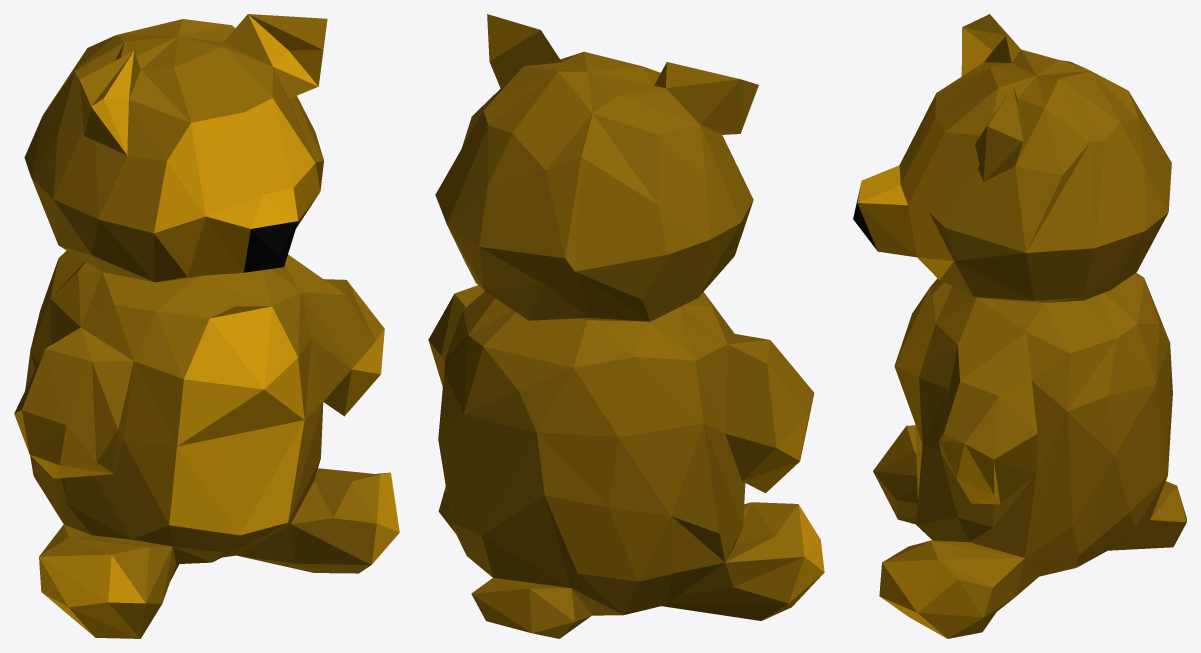
Rendered from stm_env_TeddyBear.fbx.
3 renders of one model, left to right at view 1: azimuth 30°, elevation 25°; view 2: azimuth 150°, elevation 25°; view 3: azimuth 270°, elevation 25°, orthographic. The views are drawn at different scales.
Visible parts, largest first — view 1: Bear; view 2: Bear; view 3: Bear.
Boxes of the visible parts, x1,y1,x2,y2 form: Bear: [14, 14, 399, 638]; Bear: [428, 14, 824, 638]; Bear: [853, 14, 1186, 638].
Bounding box in the file's own units: 286 × 410 × 241.
